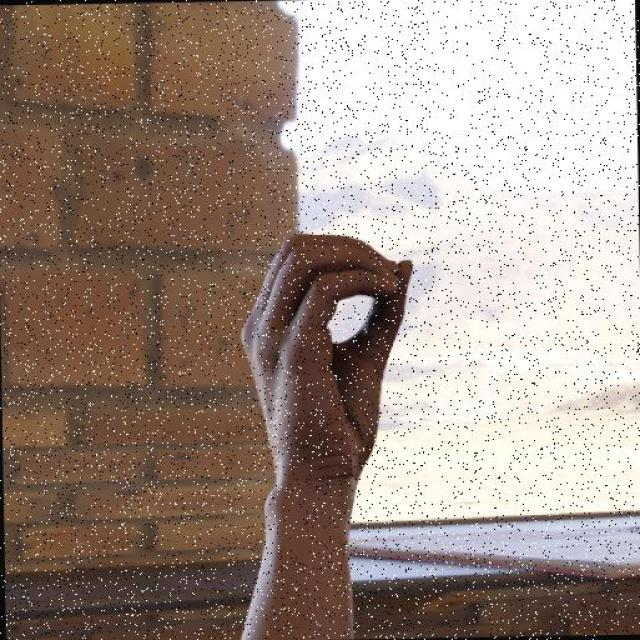O: (228, 222, 424, 548)
